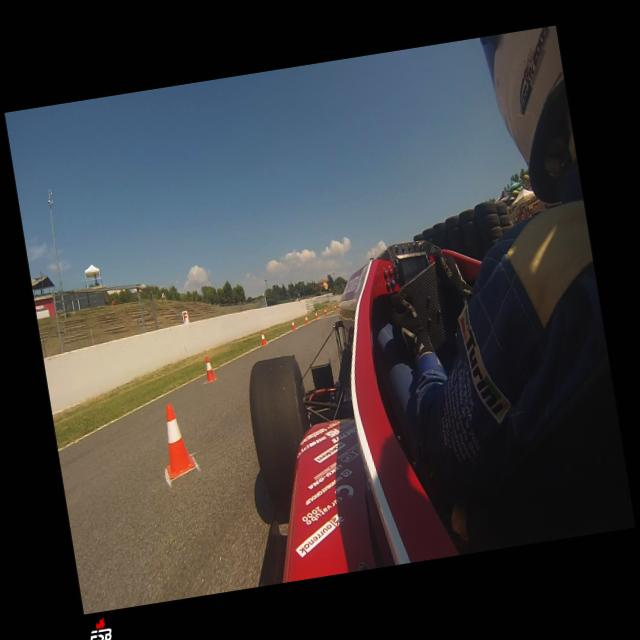orange_cone: (156, 400, 198, 480), (202, 354, 218, 384), (260, 330, 267, 346), (290, 319, 296, 331), (333, 304, 338, 312), (305, 315, 309, 324), (314, 311, 318, 319), (324, 308, 327, 316)
